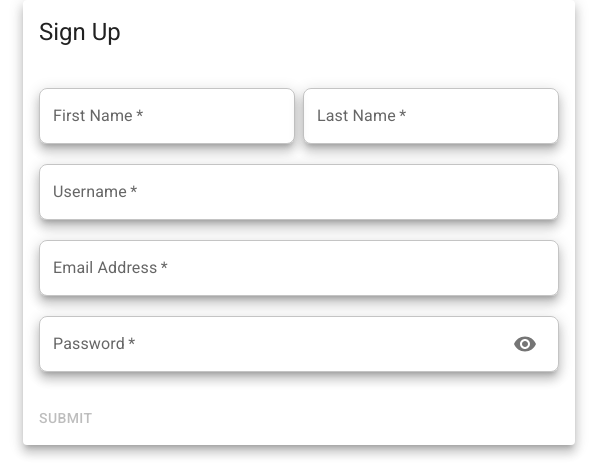
sign up › should disable the submit button when the first name field is emptied
Type "Joe" into the field labelled "First Name" at coordinates (167, 116), box [39,88,295,144]
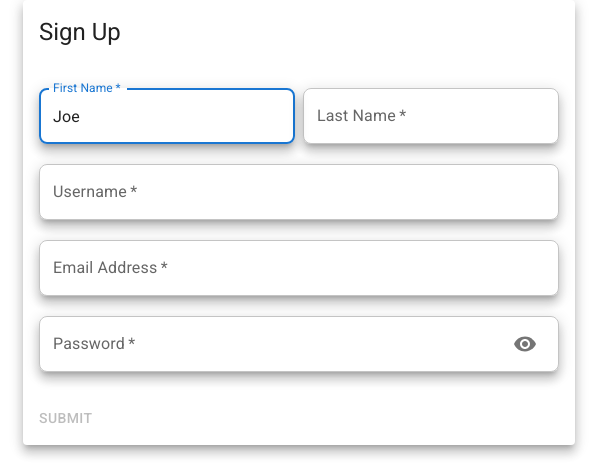
Type "Bloggs" into the field labelled "Last Name" at coordinates (431, 116), box [303,88,559,144]
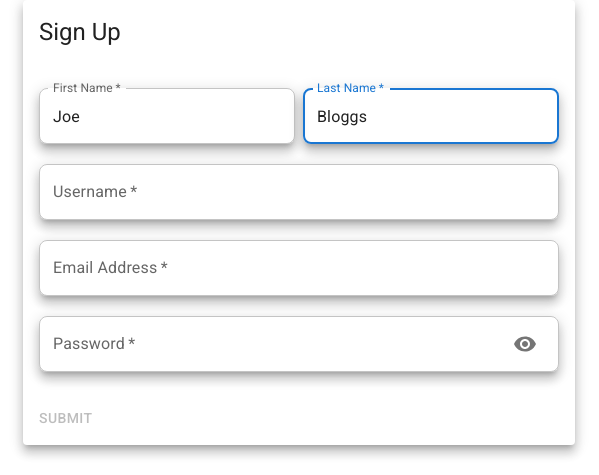
Type "jbloggs" into the field labelled "Username" at coordinates (299, 192), box [39,164,559,220]
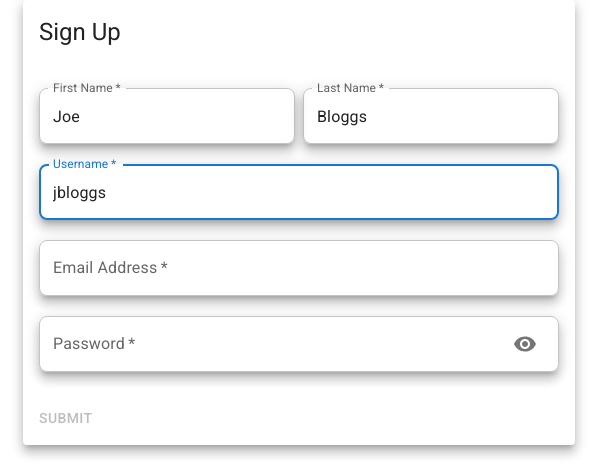
Type "jbloggs@email.com" into the field labelled "Email Address" at coordinates (299, 268), box [39,240,559,296]
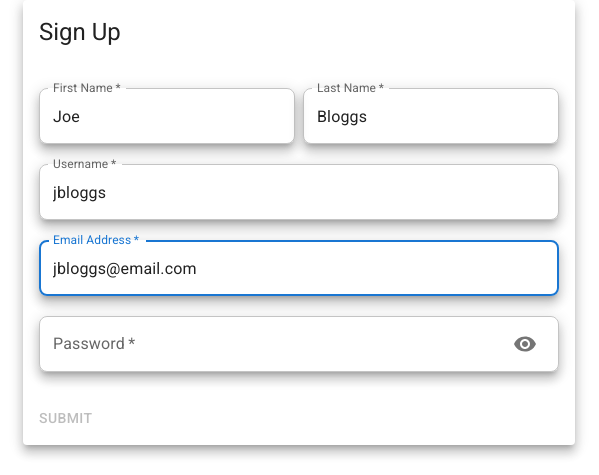
Type "SecretPassword" into the password field labelled "Password *" at coordinates (268, 344), box [39,316,497,372]
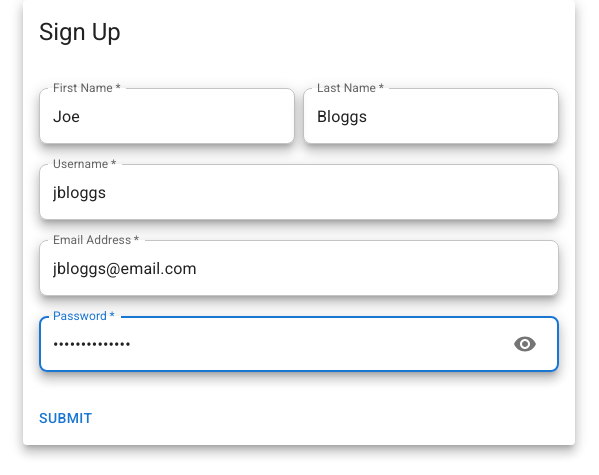
Clear the field labelled "First Name" at coordinates (167, 116), box [39,88,295,144]
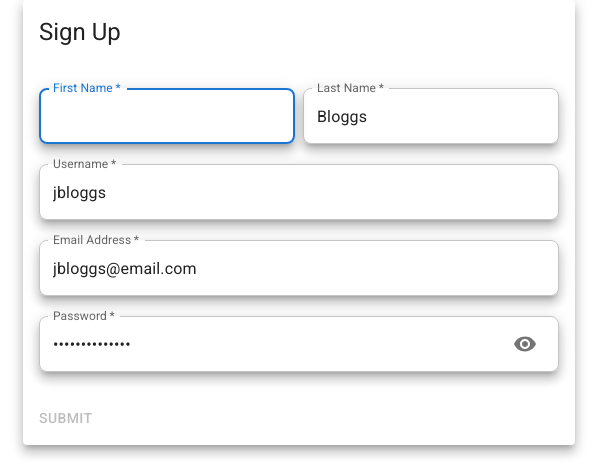
Expected: the button "Submit" is disabled, [31,400,100,436]
